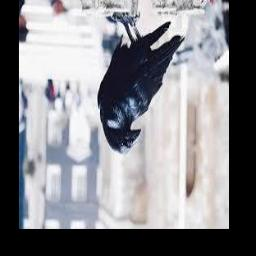Crow: (97, 13, 185, 156)
